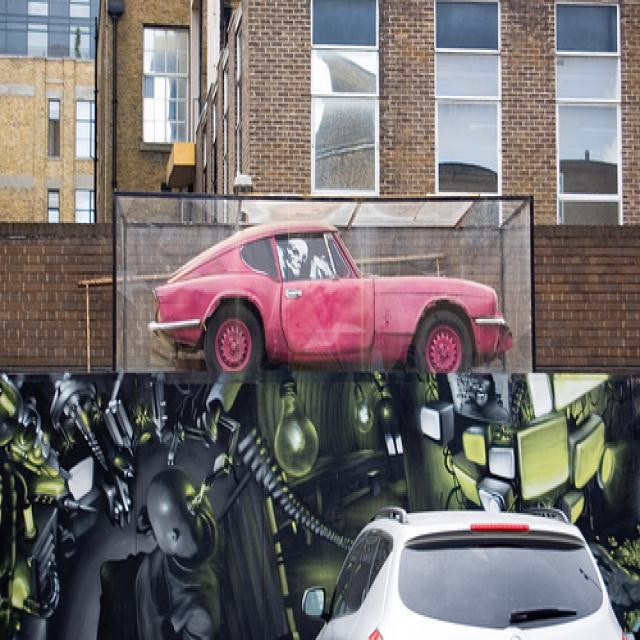Car: (147, 198, 523, 377), (298, 509, 626, 640)
